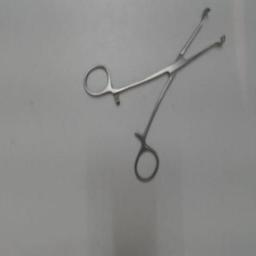Babcock Tissue Forceps: (82, 6, 226, 186)
